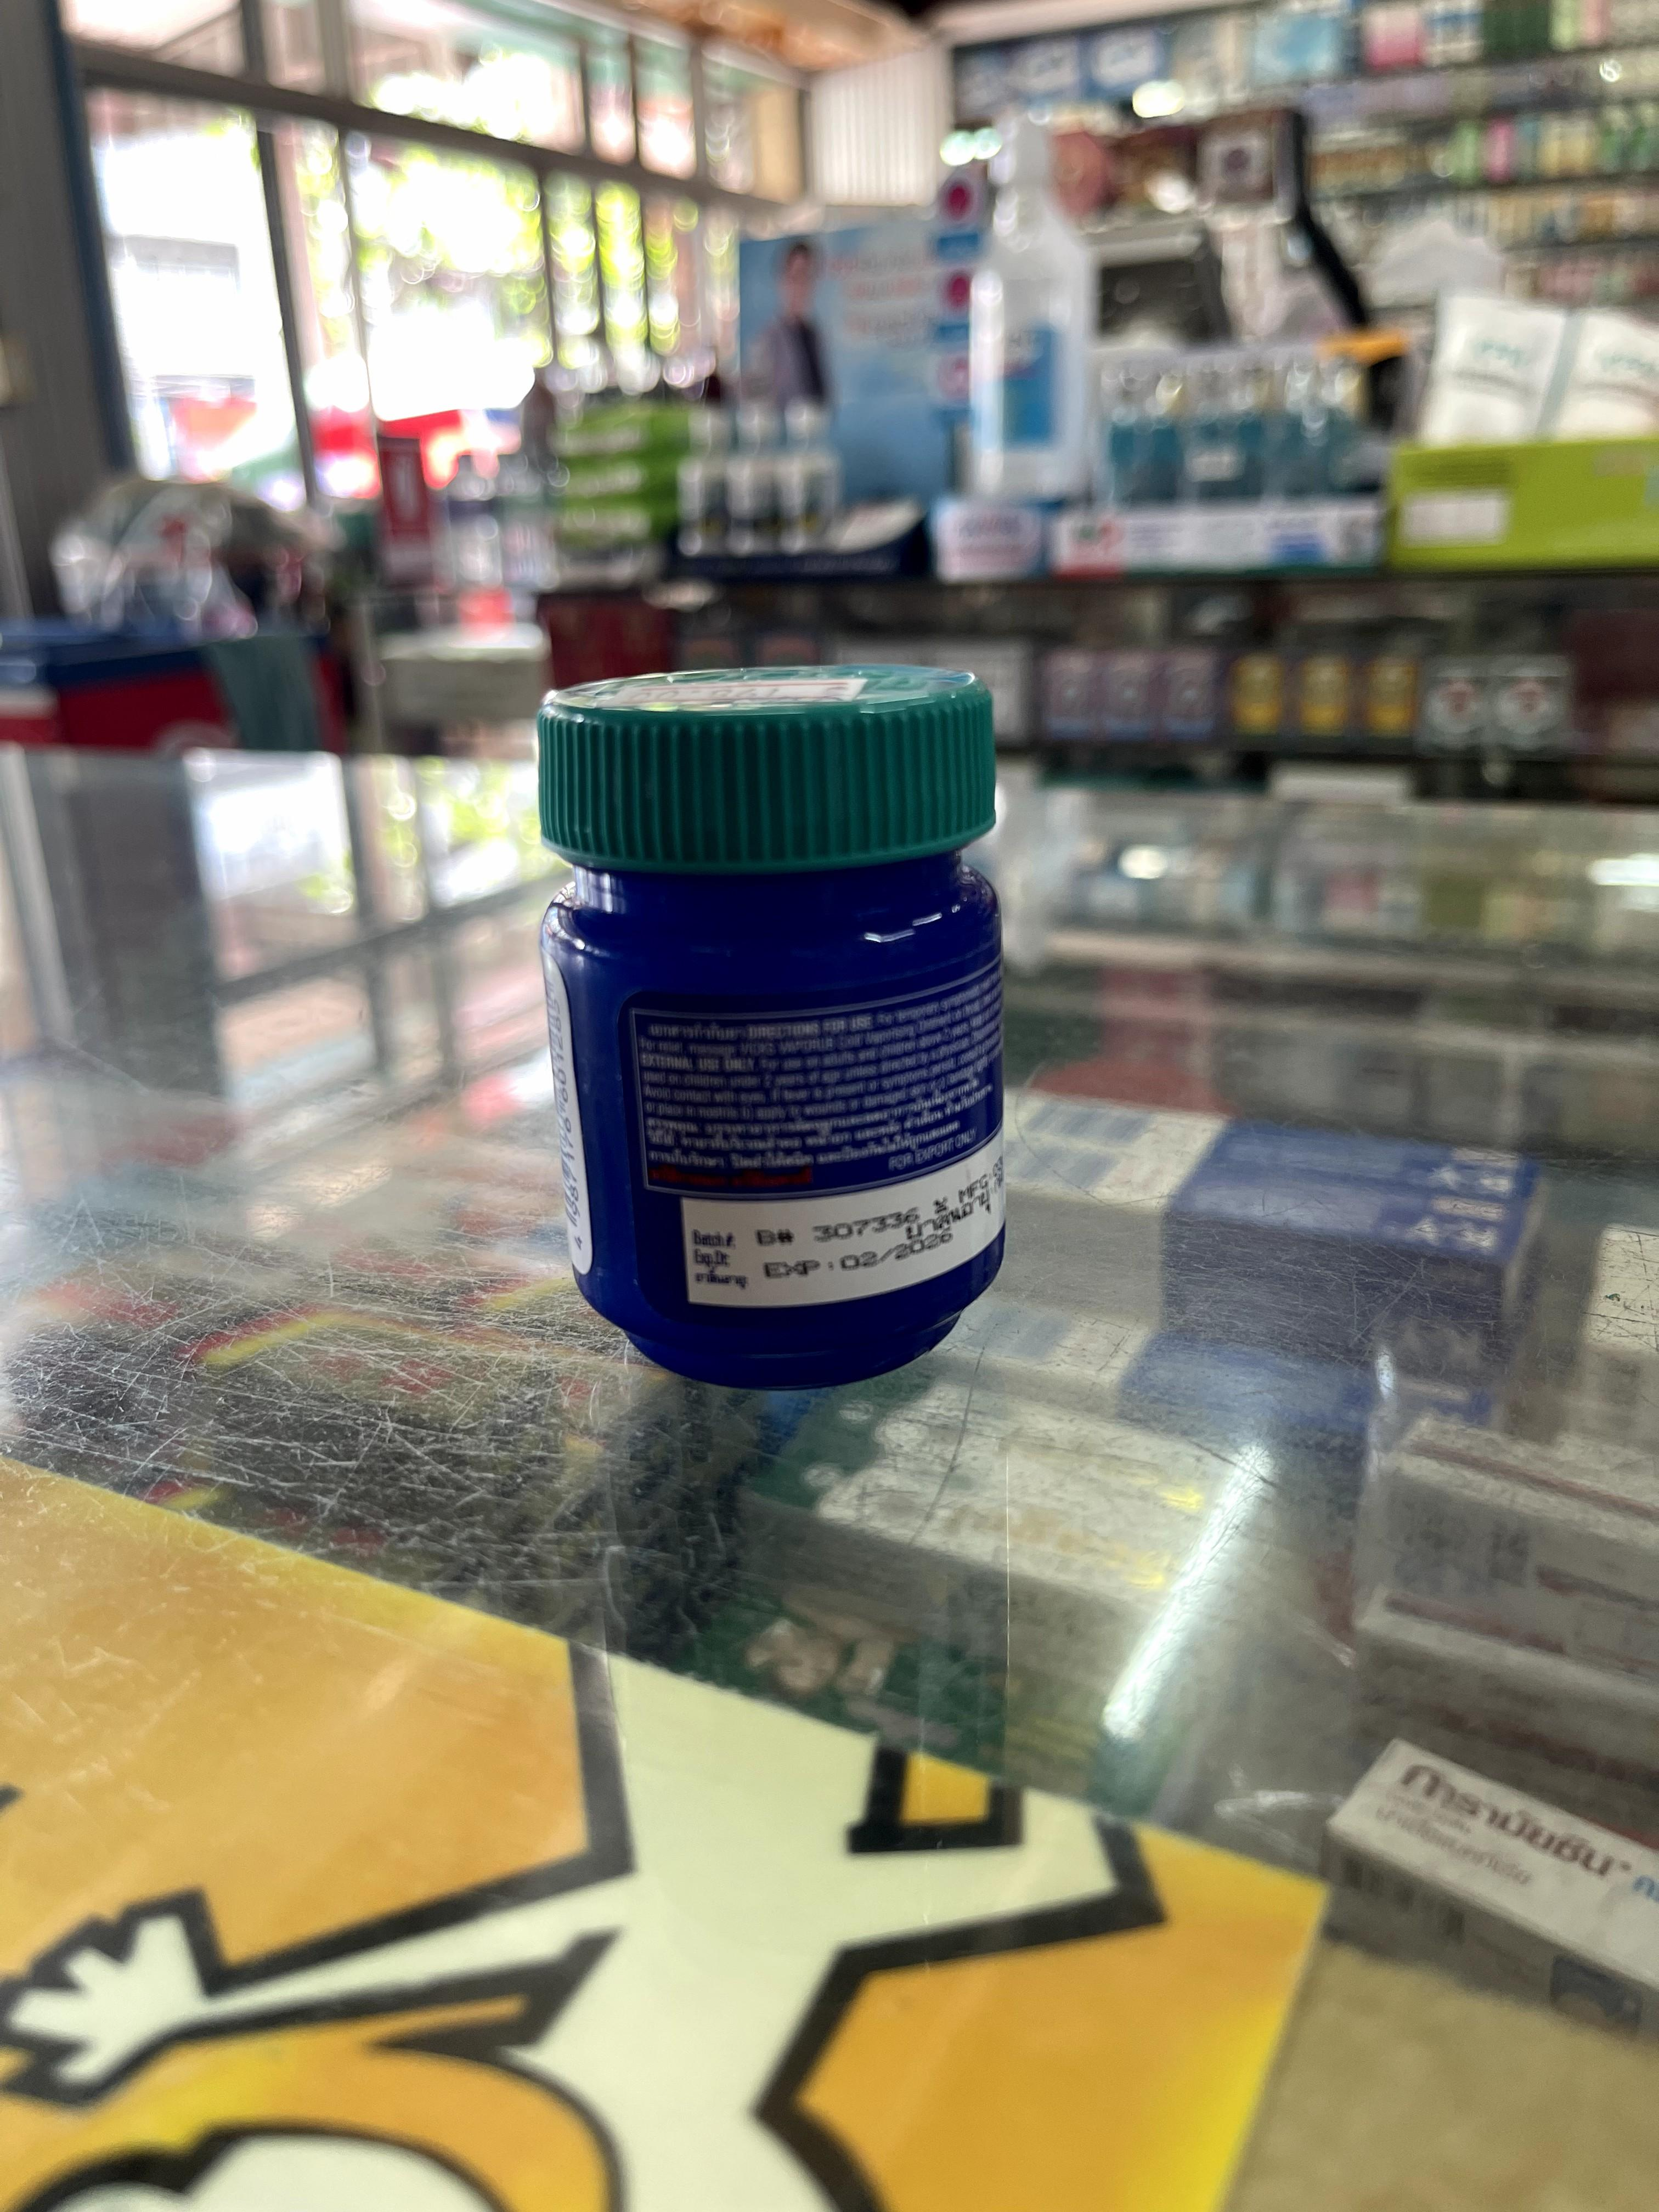VapoRub_Big: (540, 674, 999, 1383)
